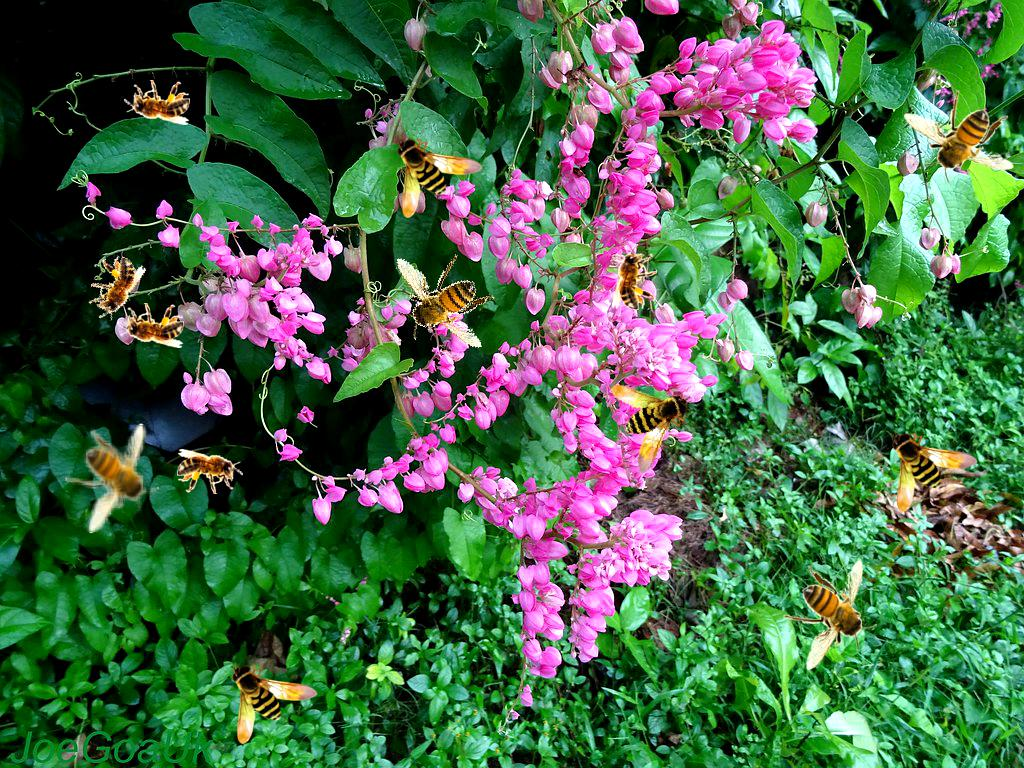Bee: (371, 235, 510, 363), (592, 375, 694, 483), (903, 90, 1014, 184), (65, 423, 159, 534), (783, 560, 877, 671), (230, 662, 318, 744), (890, 430, 978, 512), (395, 136, 483, 218), (80, 249, 148, 328), (177, 449, 243, 494), (118, 303, 184, 348), (612, 244, 657, 310), (124, 80, 190, 125)
